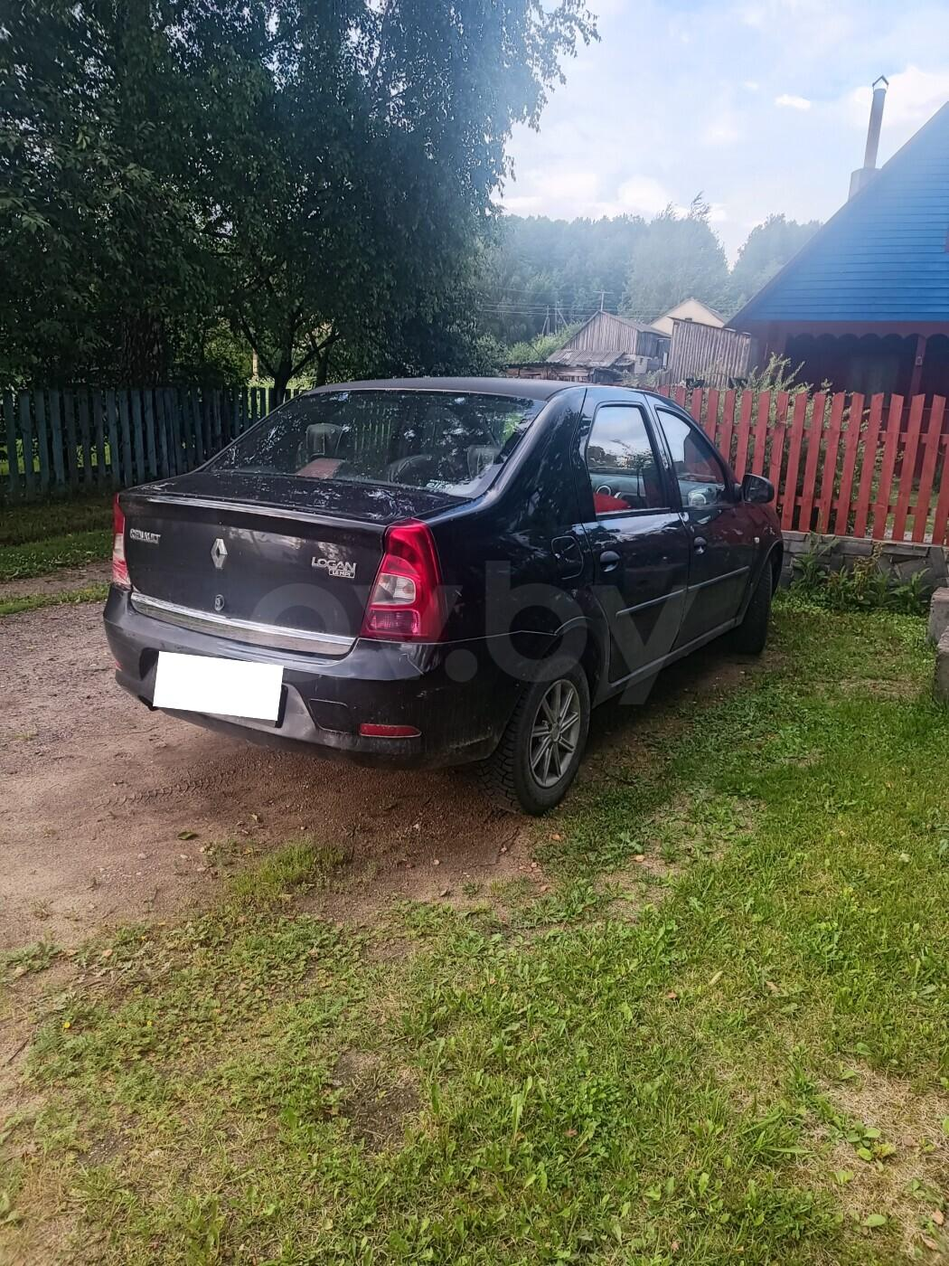Logan_2008-2015: (96, 373, 792, 823)
